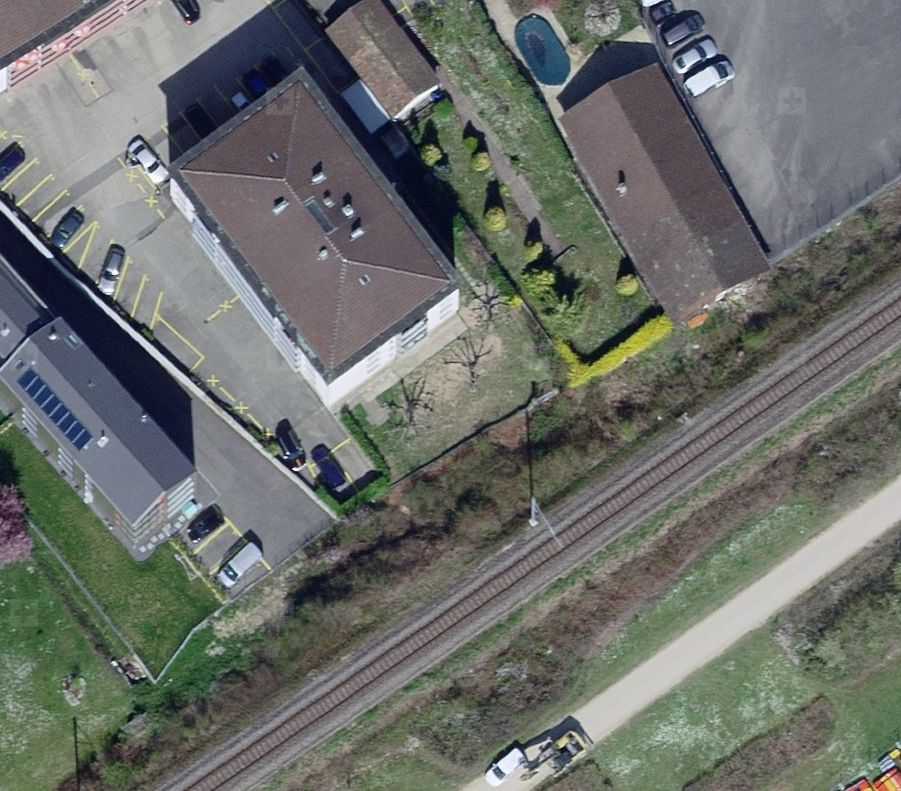solar: (10, 359, 100, 458)
